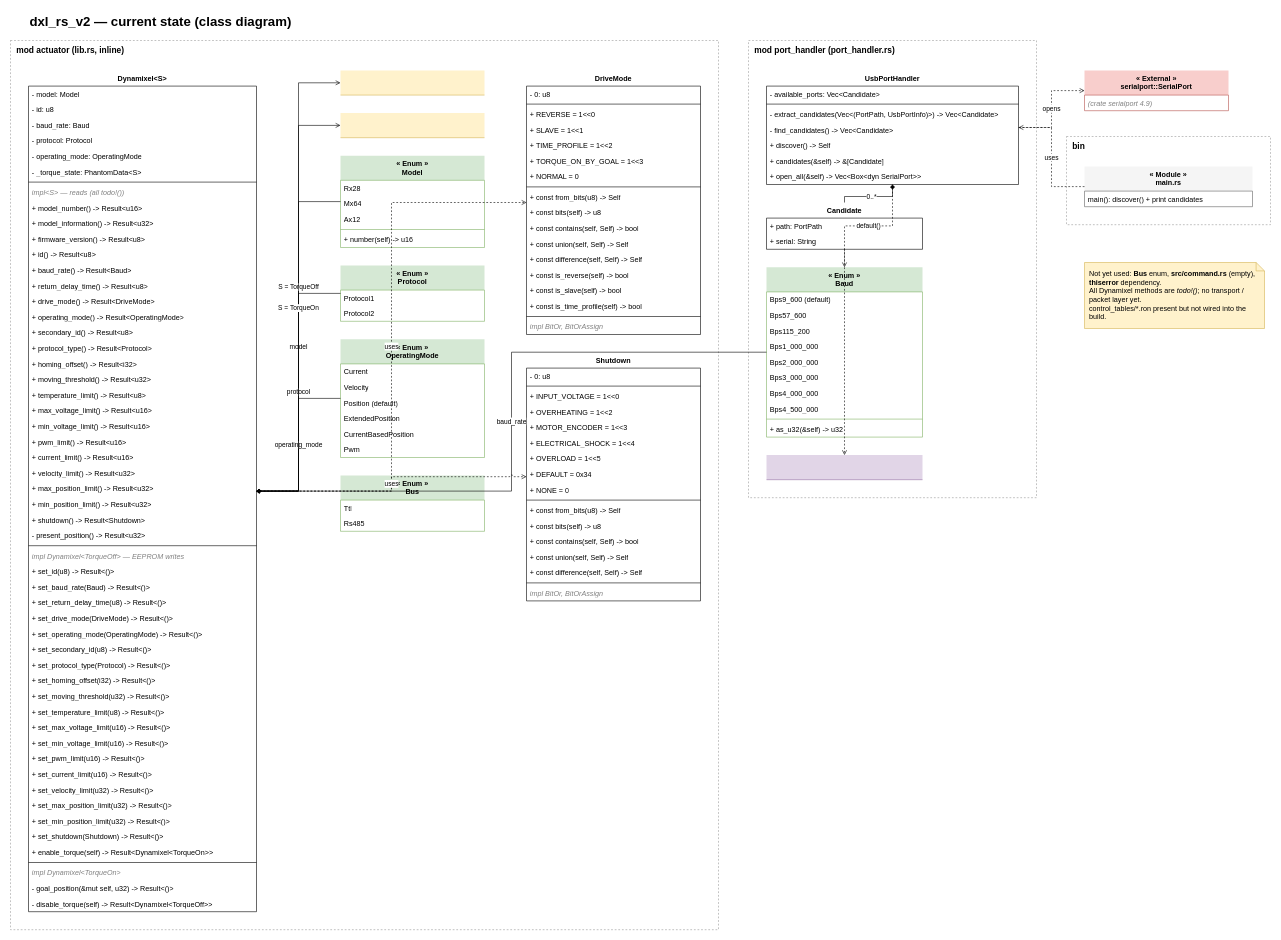
The diagram is 1281 pixels wide and 940 high, and some of its shapes have lost their labels. Here are the shapes that lost their labels. From the top down, the centre of each, then its label:
At pixel 412 82: "« Marker » TorqueOff".
At pixel 412 125: "« Marker » TorqueOn".
At pixel 844 467: "« Type alias » PortPath = String".
